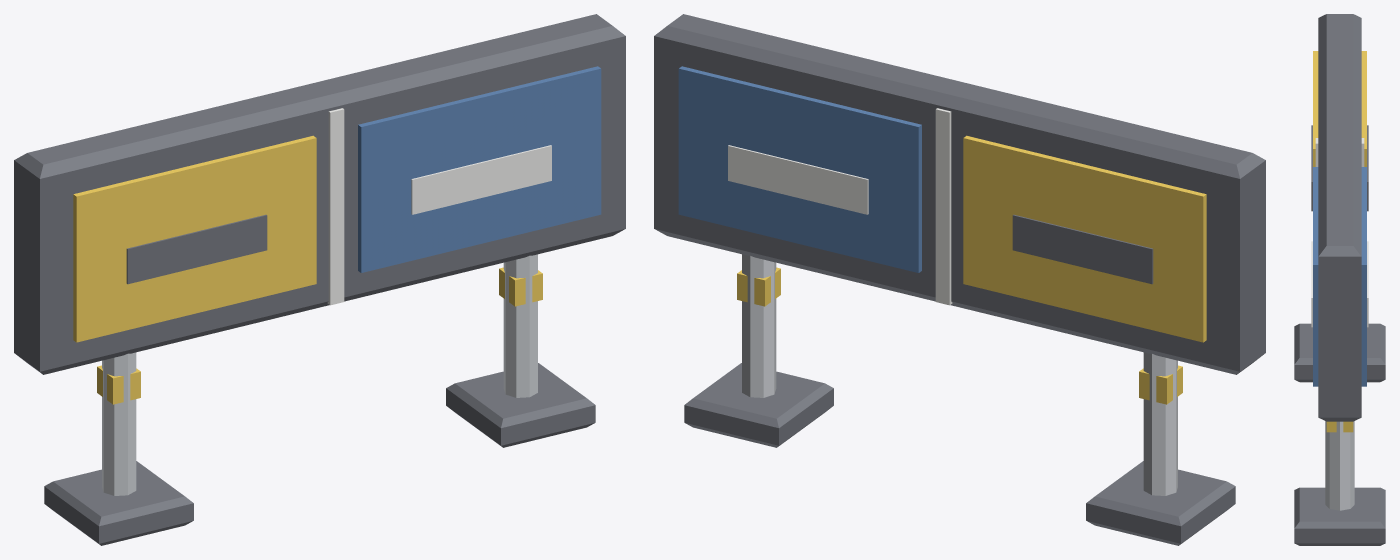
File: twysign.glb
3 renders of one model, left to right at view 1: azimuth 30°, elevation 25°; view 2: azimuth 150°, elevation 25°; view 3: azimuth 270°, elevation 25°, orthographic. The views are drawn at different scales.
Visible parts, largest first — view 1: taxiway-sign; view 2: taxiway-sign; view 3: taxiway-sign.
Boxes of the visible parts, bbox=[...] form: taxiway-sign: bbox=[14, 14, 625, 545]; taxiway-sign: bbox=[654, 14, 1265, 545]; taxiway-sign: bbox=[1294, 14, 1385, 545].
Size of the model in its own units: 2.1 by 1.3 by 0.3399.
